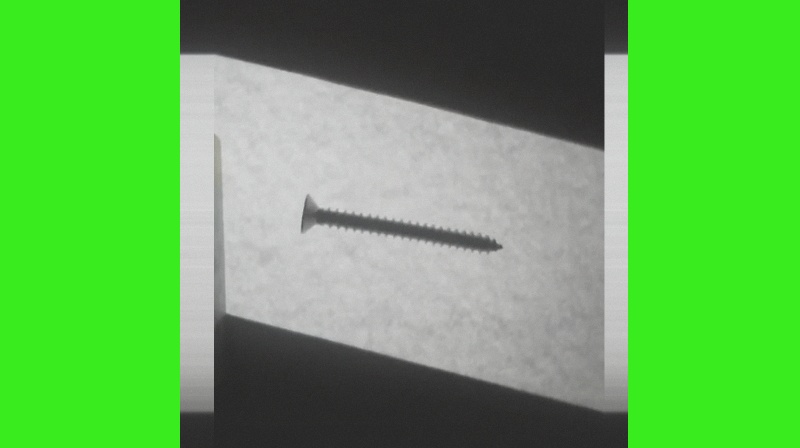S002: (296, 191, 502, 254)
